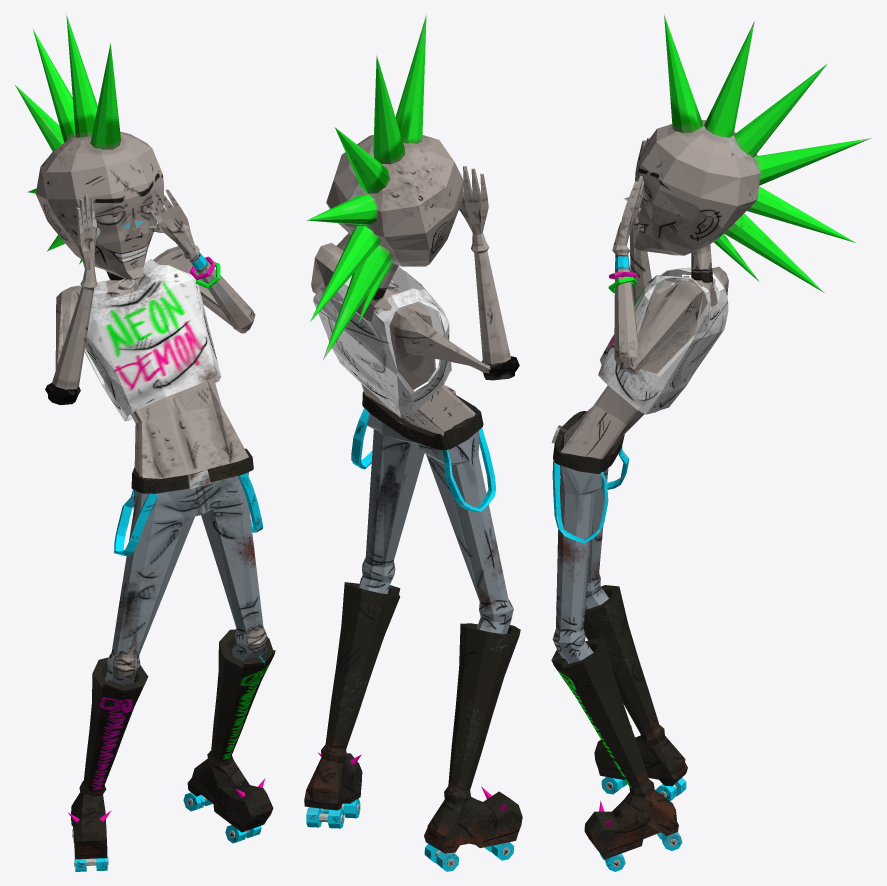
The model's file is punkAnimation_000008.obj.
3 renders of one model, left to right at view 1: azimuth 30°, elevation 25°; view 2: azimuth 150°, elevation 25°; view 3: azimuth 270°, elevation 25°, orthographic. The views are drawn at different scales.
Parts seen in each view (by area): view 1: Cube.004_Cube.003; view 2: Cube.004_Cube.003; view 3: Cube.004_Cube.003.
Part boxes in pixels (x1,y1,x2,y2): Cube.004_Cube.003: [15, 14, 275, 871]; Cube.004_Cube.003: [304, 14, 522, 871]; Cube.004_Cube.003: [551, 14, 871, 871].
Size of the model in its own units: 1.93 by 7.28 by 2.65.
